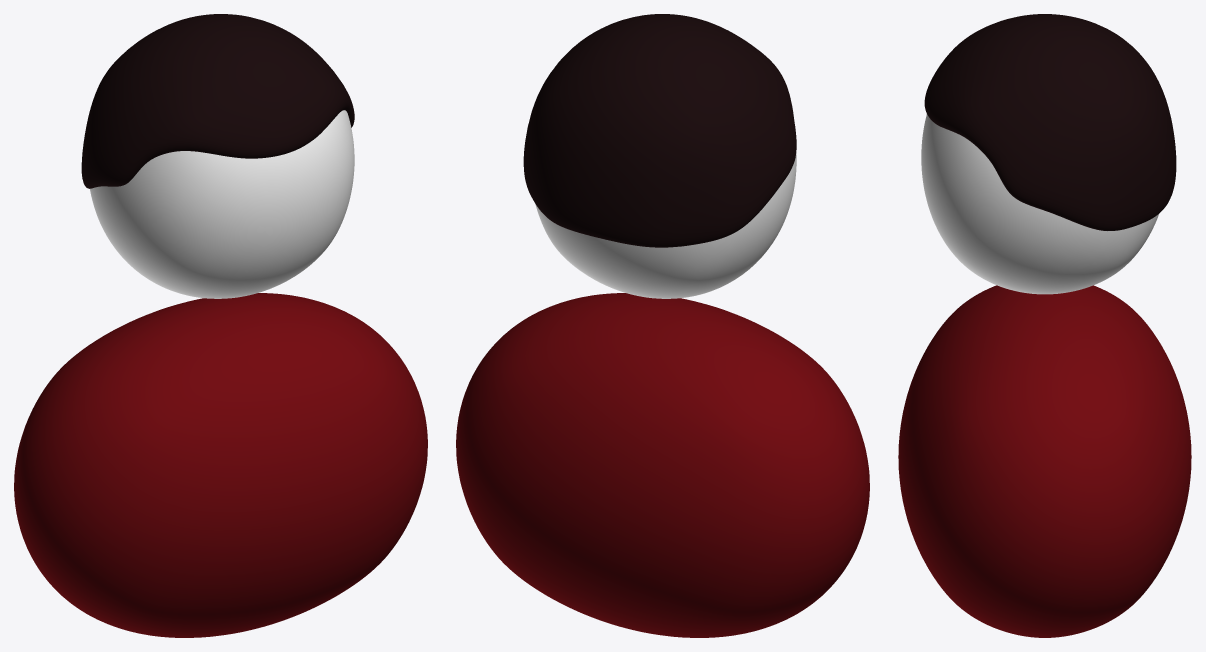
The model's file is boy.glb.
3 views of the same model, side by side, from view 1: azimuth 30°, elevation 25°; view 2: azimuth 150°, elevation 25°; view 3: azimuth 270°, elevation 25° (orthographic).
Visible parts, largest first — view 1: Boy; view 2: Boy; view 3: Boy.
Boxes of the visible parts, box(x1,y1,x2,y2) form: Boy: box(14, 14, 427, 637); Boy: box(456, 14, 869, 637); Boy: box(898, 14, 1191, 637).
Bounding box in the file's own units: 1.23 × 1.83 × 0.8317.
